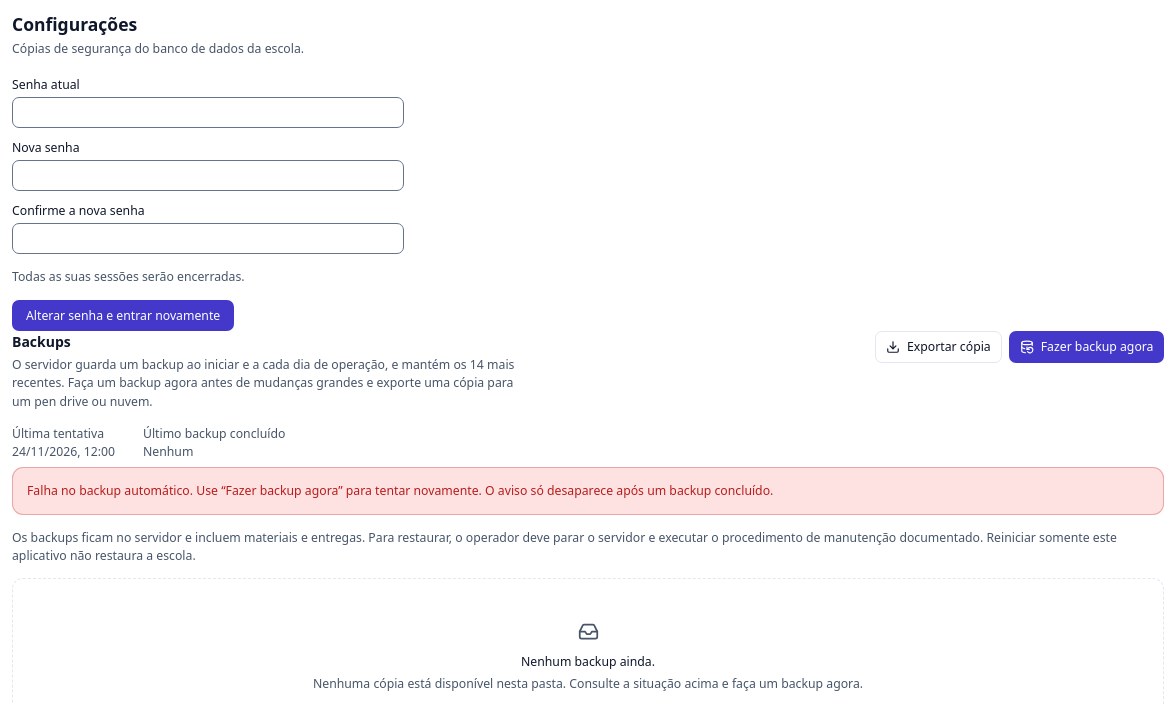
Scenario: mostra falha do backup automático e só limpa o aviso após sucesso confirmado
The image size is (1176, 704).
Expected: the message shows "Falha no backup automático.", [27, 482, 193, 499]
Click the 1st button "Fazer backup agora": (1087, 347) [1009, 331, 1164, 363]
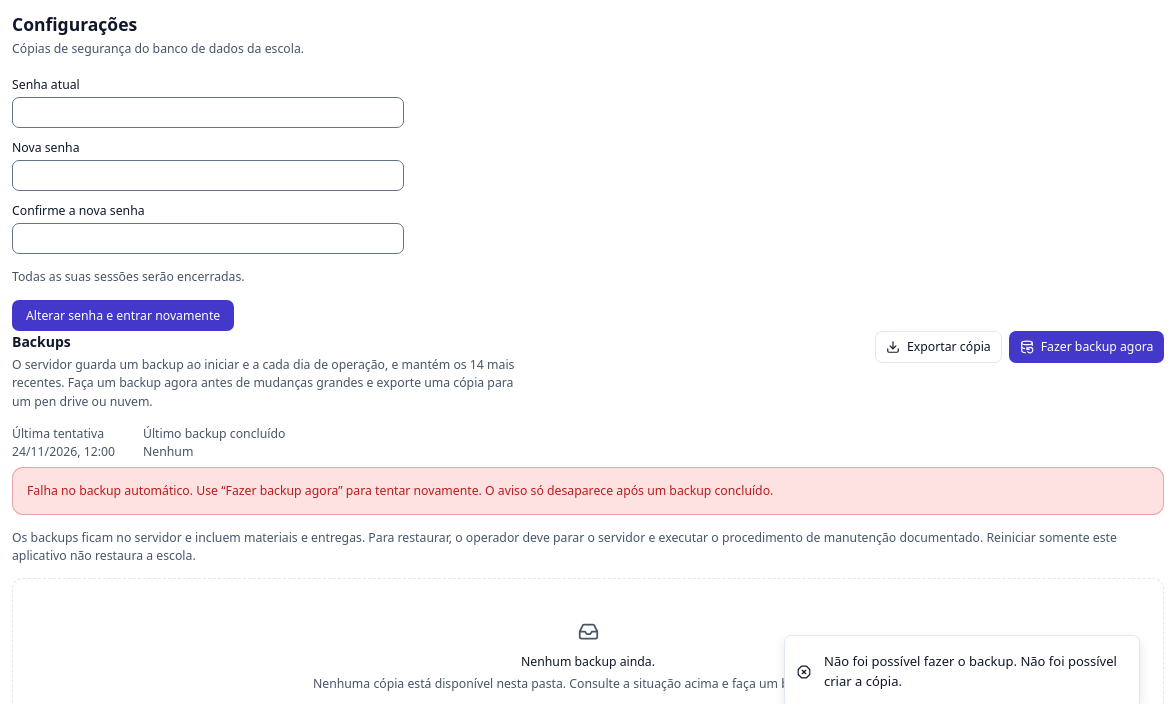
Expected: the message shows "Falha no backup automático.", [27, 482, 193, 499]
Click the 1st button "Fazer backup agora": (1087, 347) [1009, 331, 1164, 363]
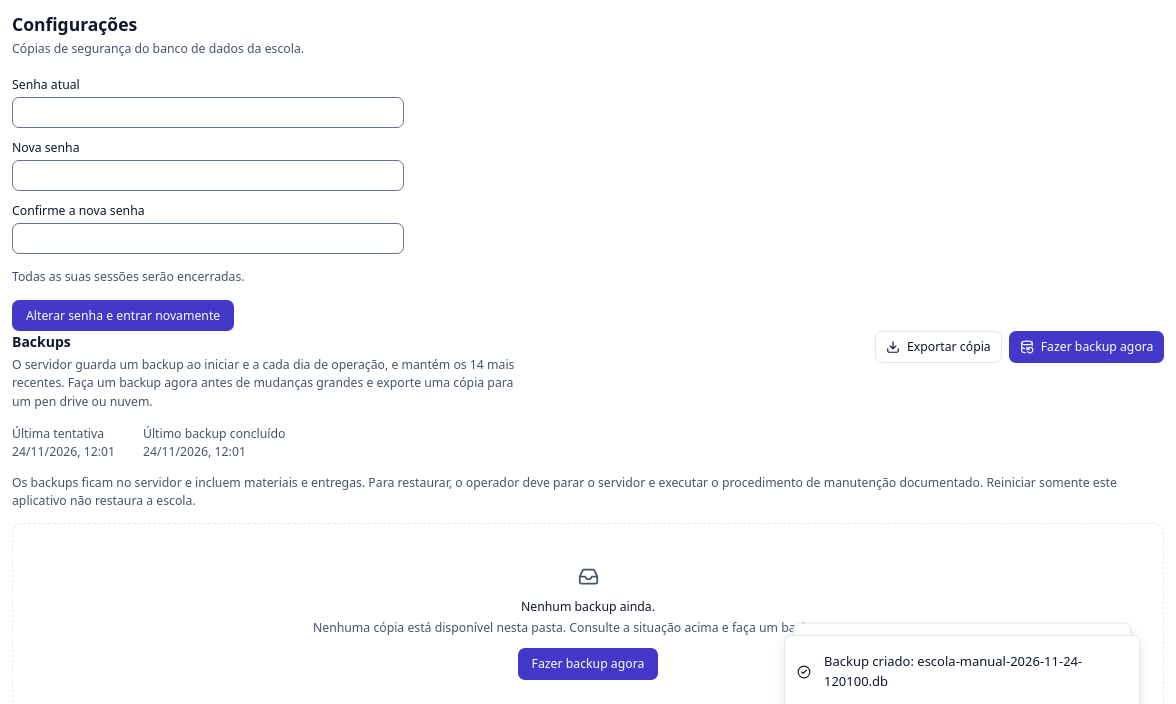
Expected: the text "Último backup concluído" is shown, [143, 425, 286, 442]
Expected: the message is gone
